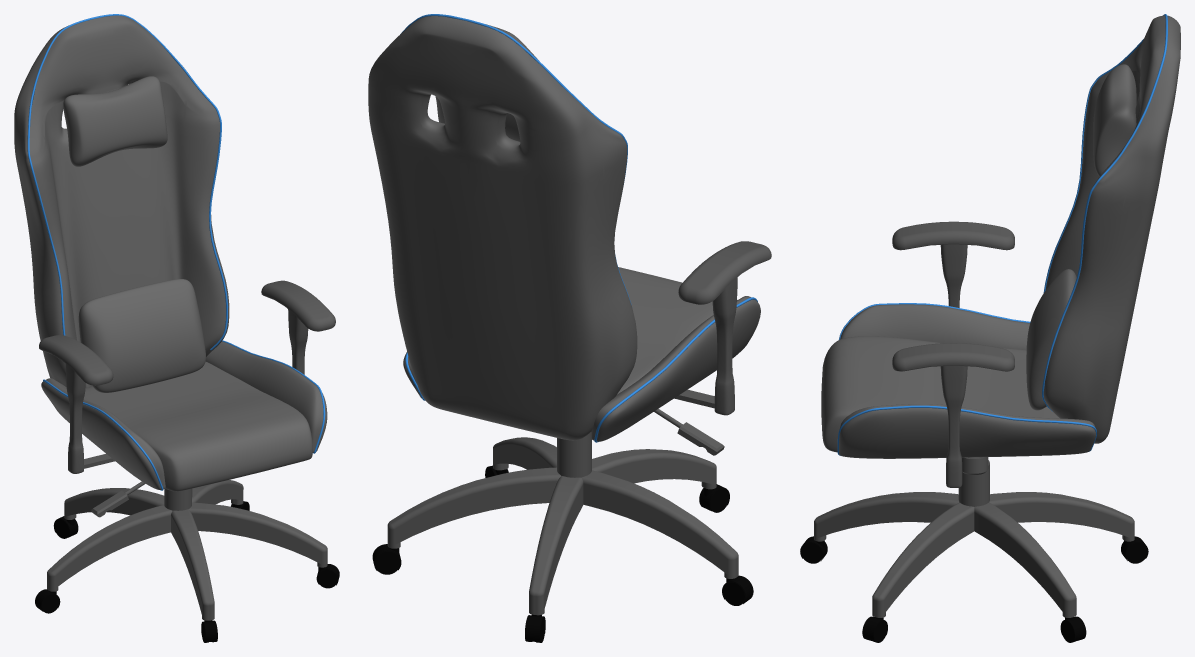
Rendered from 691_ゲーミングチェア.glb.
The picture shows the model from 3 angles, left to right: view 1: azimuth 30°, elevation 25°; view 2: azimuth 150°, elevation 25°; view 3: azimuth 270°, elevation 25°; orthographic projection. The views are drawn at different scales.
Visible parts, largest first — view 1: seat, backrest, cusion2, cusion1; view 2: backrest, seat; view 3: seat, backrest, cusion1, cusion2.
Boxes of the visible parts, box(x1,y1,x2,y2) form: seat: box(35, 280, 339, 642); backrest: box(14, 14, 229, 387); cusion2: box(78, 279, 205, 392); cusion1: box(63, 76, 167, 166); backrest: box(368, 14, 637, 440); seat: box(372, 241, 771, 642); seat: box(800, 221, 1148, 642); backrest: box(1042, 14, 1180, 443); cusion1: box(1093, 64, 1136, 176); cusion2: box(1026, 269, 1076, 410).
Bounding box in the file's own units: 0.7405 × 1.33 × 0.8218.
